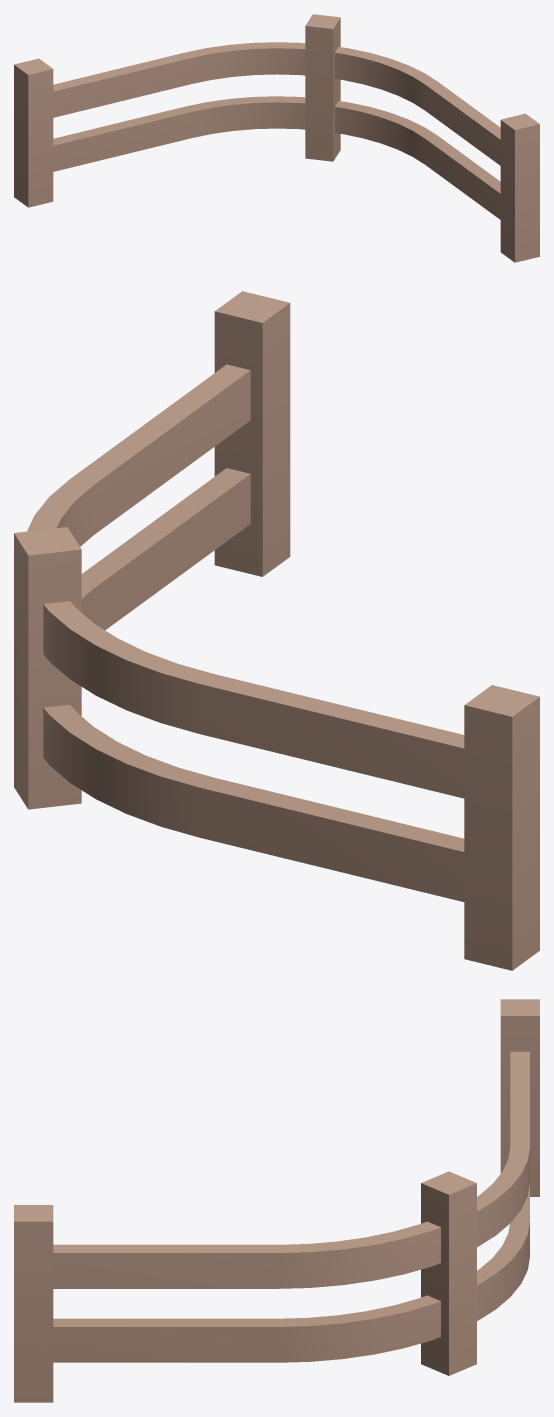
Rendered from fence-curved.glb.
3 renders of one model, top to bottom at view 1: azimuth 30°, elevation 25°; view 2: azimuth 150°, elevation 25°; view 3: azimuth 270°, elevation 25°, orthographic. The views are drawn at different scales.
Visible parts, largest first — view 1: fence-curved; view 2: fence-curved; view 3: fence-curved.
Boxes of the visible parts, bbox=[...] form: fence-curved: bbox=[14, 14, 539, 262]; fence-curved: bbox=[14, 291, 539, 970]; fence-curved: bbox=[14, 999, 539, 1402].
Bounding box in the file's own units: 1 × 0.38 × 1.
